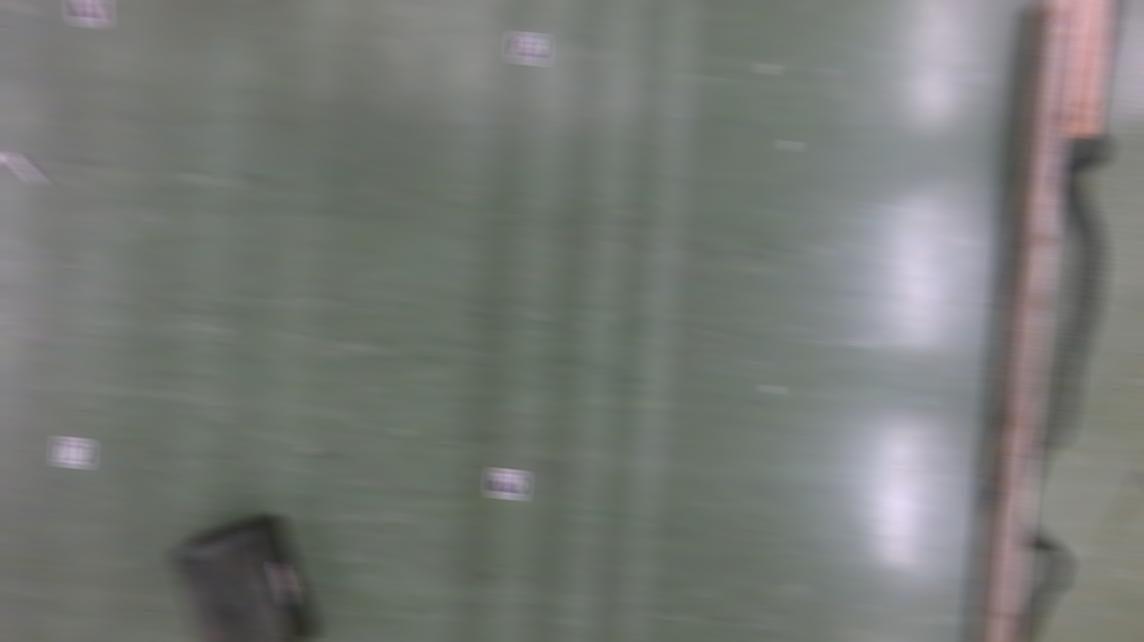probes: (0, 150, 46, 188)
rako: (168, 511, 322, 642)
